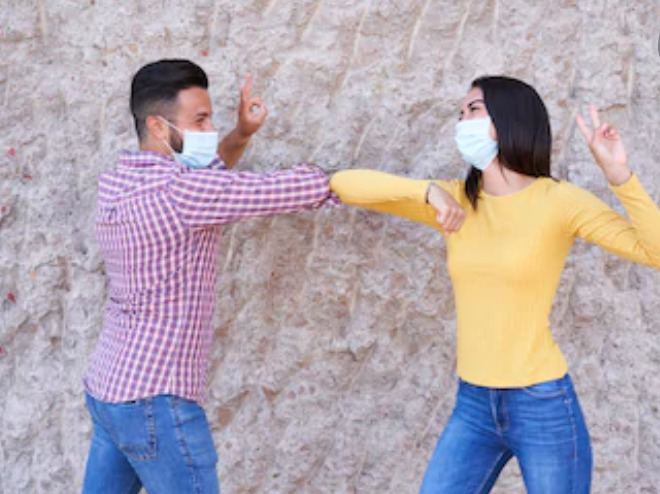Bad: (84, 57, 660, 489)
